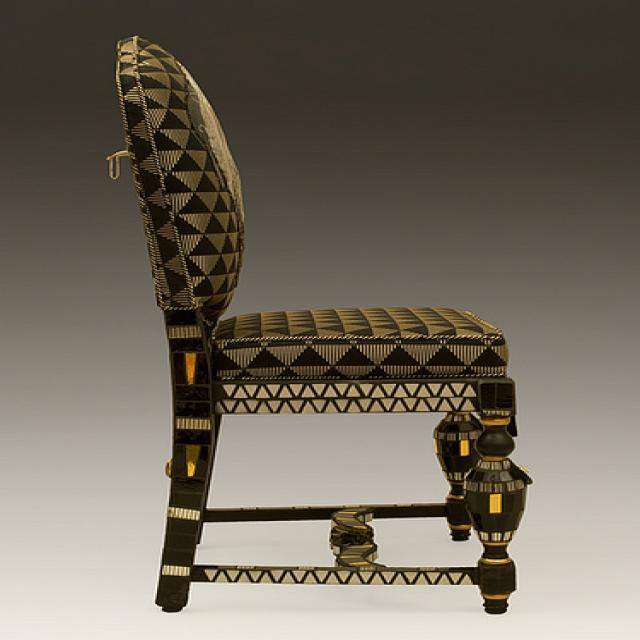chair: (104, 33, 533, 614)
